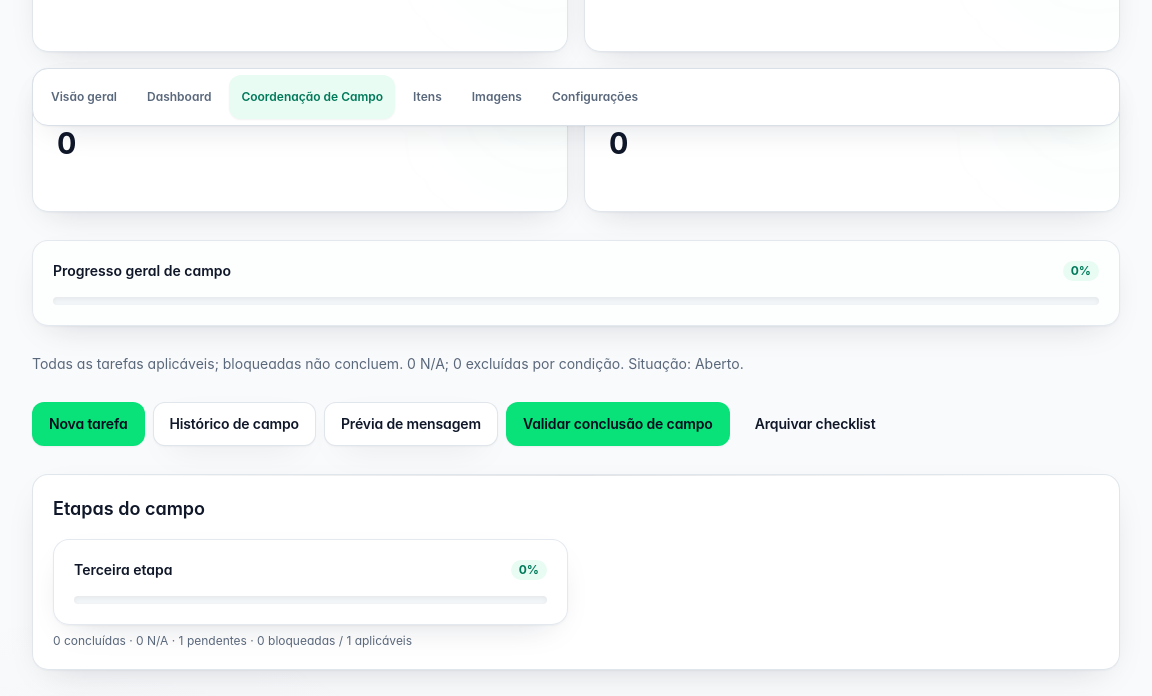
Test: Field coordination UI › does not generate or send a message on opening; shows text before copying
(page scrolled)
Click the button "Prévia de mensagem".
click(411, 424)  # box [324,402,498,446]
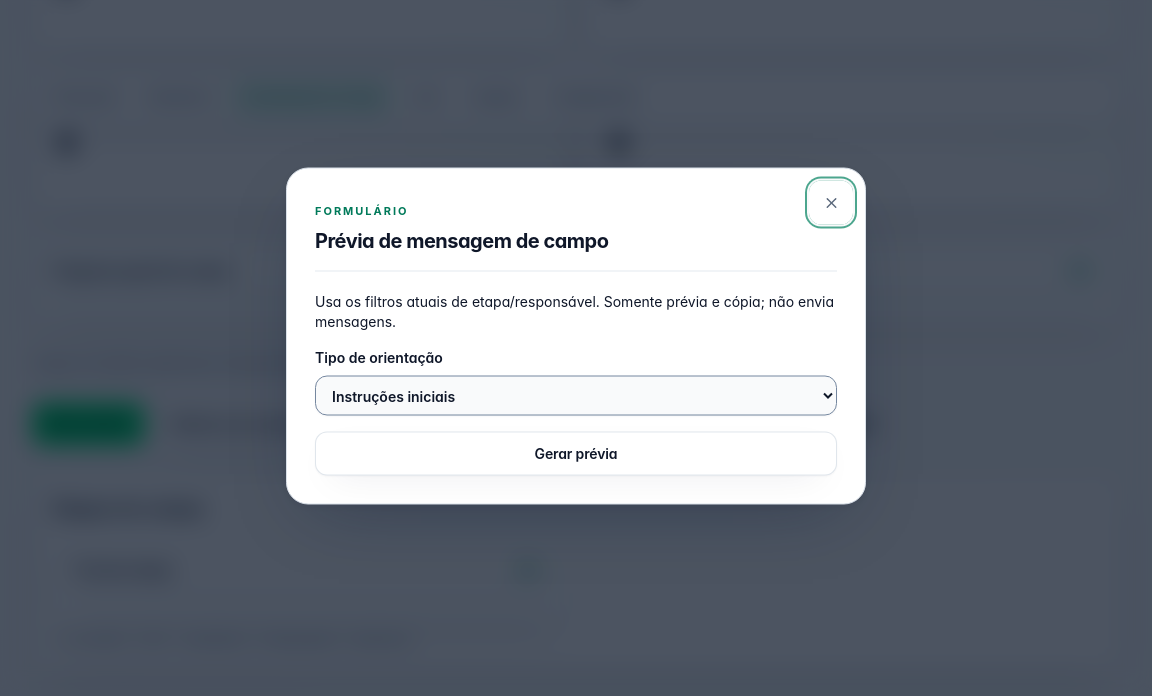
Expected: the button "Copiar prévia revisada" is not shown
Click the button "Gerar prévia".
click(576, 454)  # box [315,432,837,476]
(page scrolled)
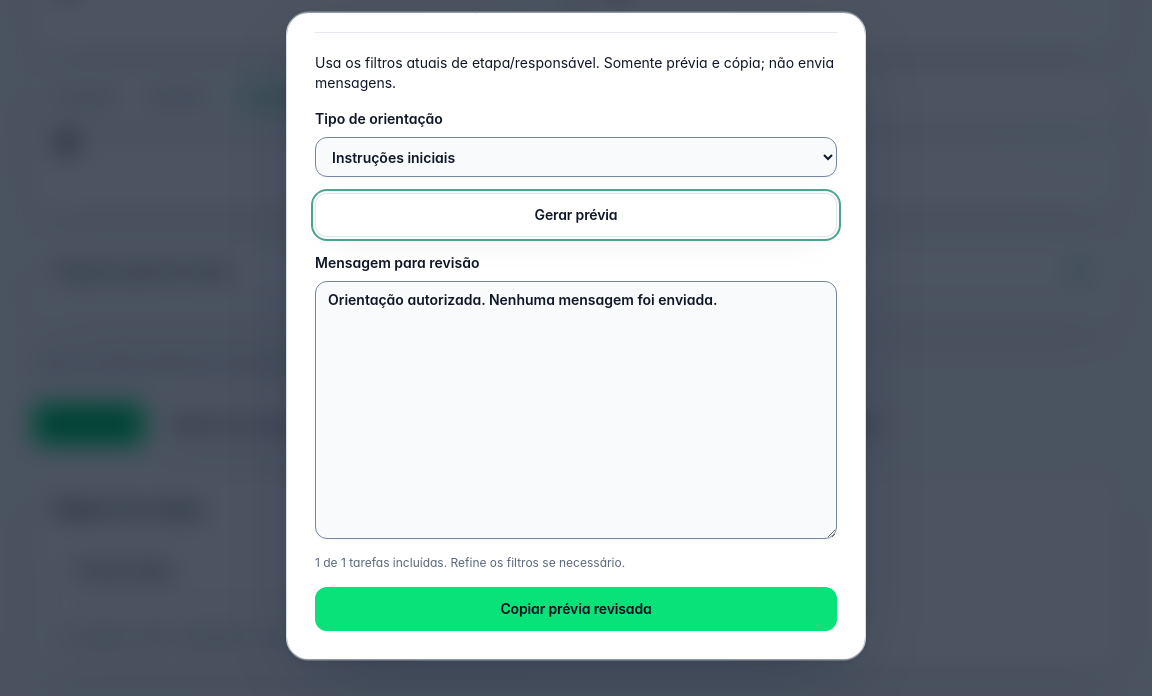
Expected: the text box labelled "Mensagem para revisão" holds "Orientação autorizada. Nenhuma mensagem foi enviada.", [315,281,837,539]
Expected: the button "Copiar prévia revisada" is shown, [315,587,837,631]
